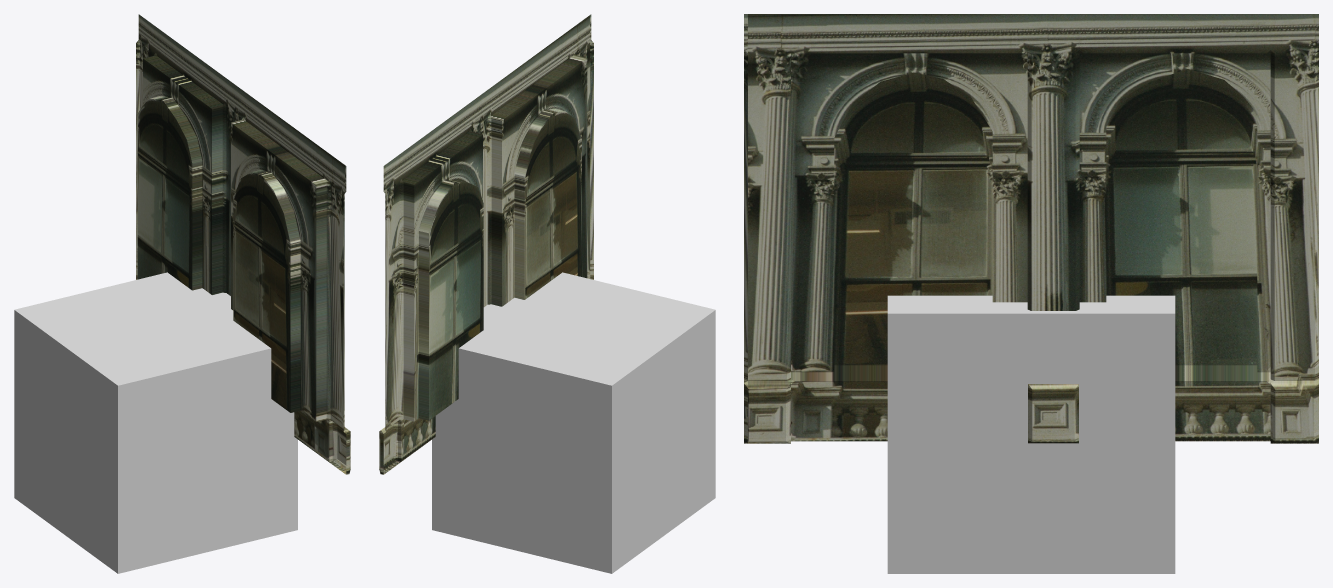
The model's file is building2.glb.
3 views of the same model, side by side, from view 1: azimuth 30°, elevation 25°; view 2: azimuth 150°, elevation 25°; view 3: azimuth 270°, elevation 25° (orthographic). The views are drawn at different scales.
Parts seen in each view (by area): view 1: Cube.001, Cube; view 2: Cube.001, Cube; view 3: Cube, Cube.001.
Boxes of the visible parts, box(x1,y1,x2,y2) form: Cube.001: box(14, 272, 297, 573); Cube: box(136, 14, 350, 474); Cube.001: box(432, 272, 715, 573); Cube: box(379, 14, 593, 474); Cube: box(744, 14, 1318, 443); Cube.001: box(887, 295, 1175, 573).
Size of the model in its own units: 1.01 by 2.14 by 2.
1 material, 1 textured.
